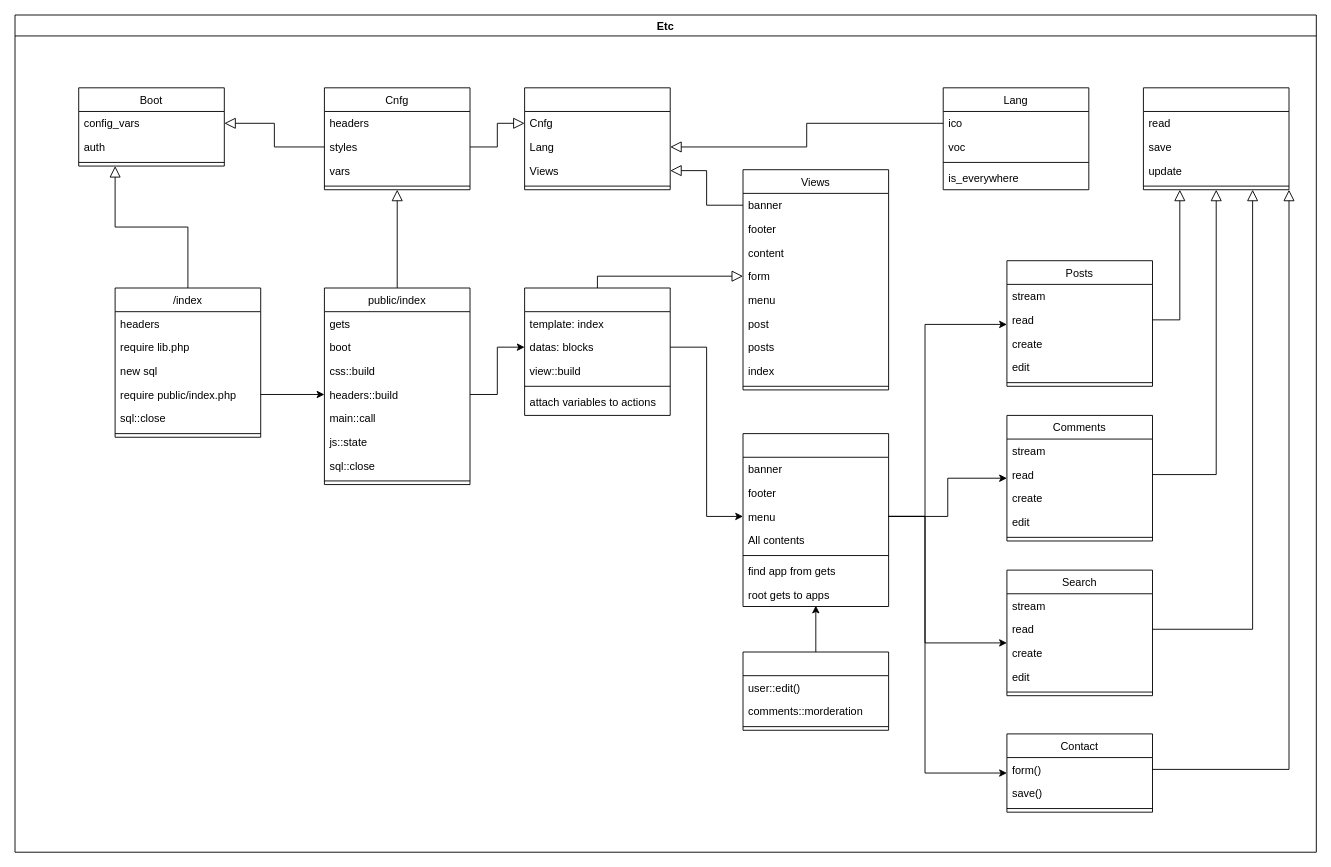
Image size: 1331x867. Some labels were removed from this diagram. Each missing label, with the box of its shape:
Json: (524, 87, 670, 190)
Main: (524, 287, 670, 415)
Sql: (1143, 87, 1289, 190)
src/app/admin: (742, 651, 889, 730)
src/app/blocks.php: (742, 433, 889, 607)
